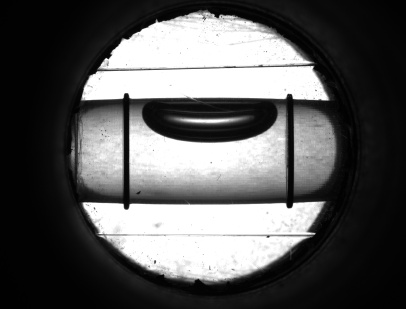line: (117, 111, 134, 189), (281, 116, 298, 189)
